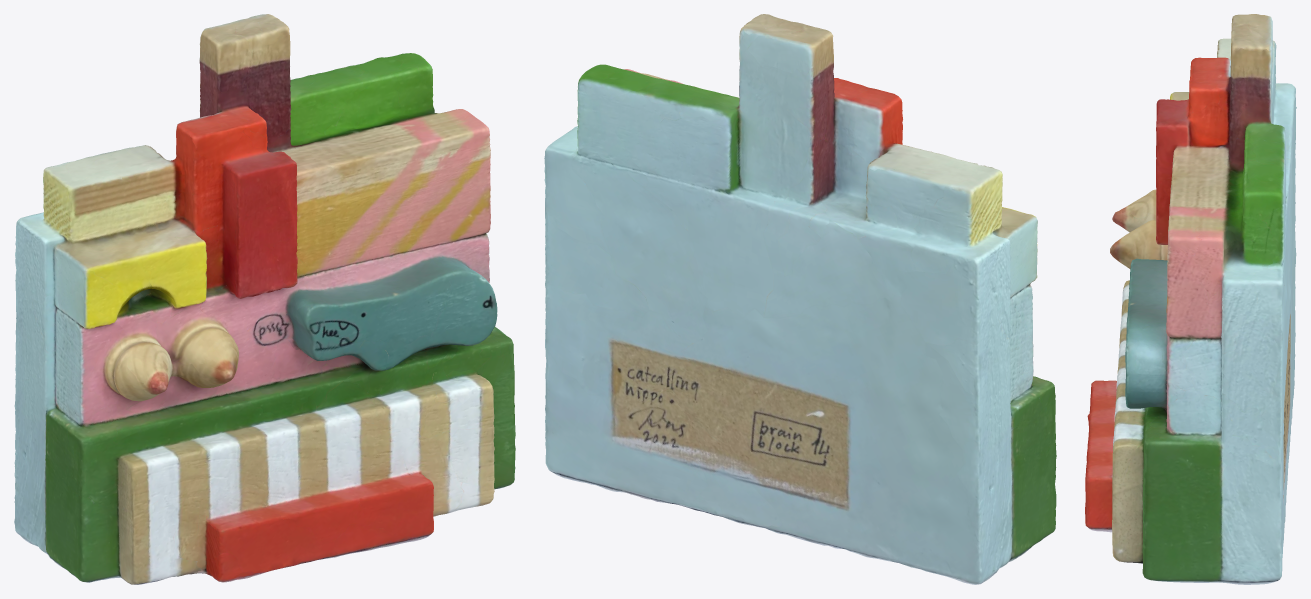
The model's file is Brainblock_14.glb.
3 views of the same model, side by side, from view 1: azimuth 30°, elevation 25°; view 2: azimuth 150°, elevation 25°; view 3: azimuth 270°, elevation 25° (orthographic). The views are drawn at different scales.
Visible parts, largest first — view 1: Geom; view 2: Geom; view 3: Geom.
Part boxes in pixels (x1,y1,x2,y2): Geom: (14,14,515,584); Geom: (544,14,1056,584); Geom: (1085,14,1296,584).
Size of the model in its own units: 0.1502 by 0.1594 by 0.0665.
1 material, 1 textured.
